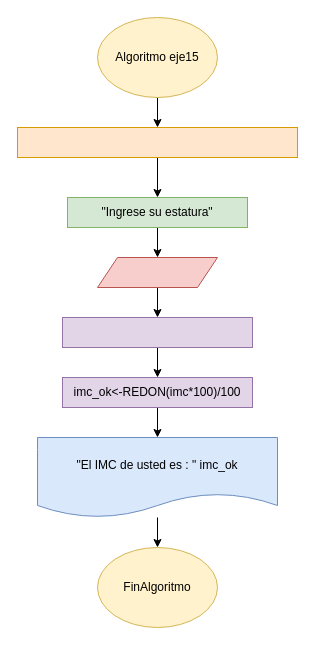
Image size: 315x645. Some labels were removed from this diagram. The box of each missing label's shape, as (x1, y1, x2, y2) in pixels:
definir estatura, peso, imc como real: (16, 126, 298, 158)
imc<-peso/(estatura*estatura): (62, 316, 252, 348)
peso: (96, 256, 218, 288)
